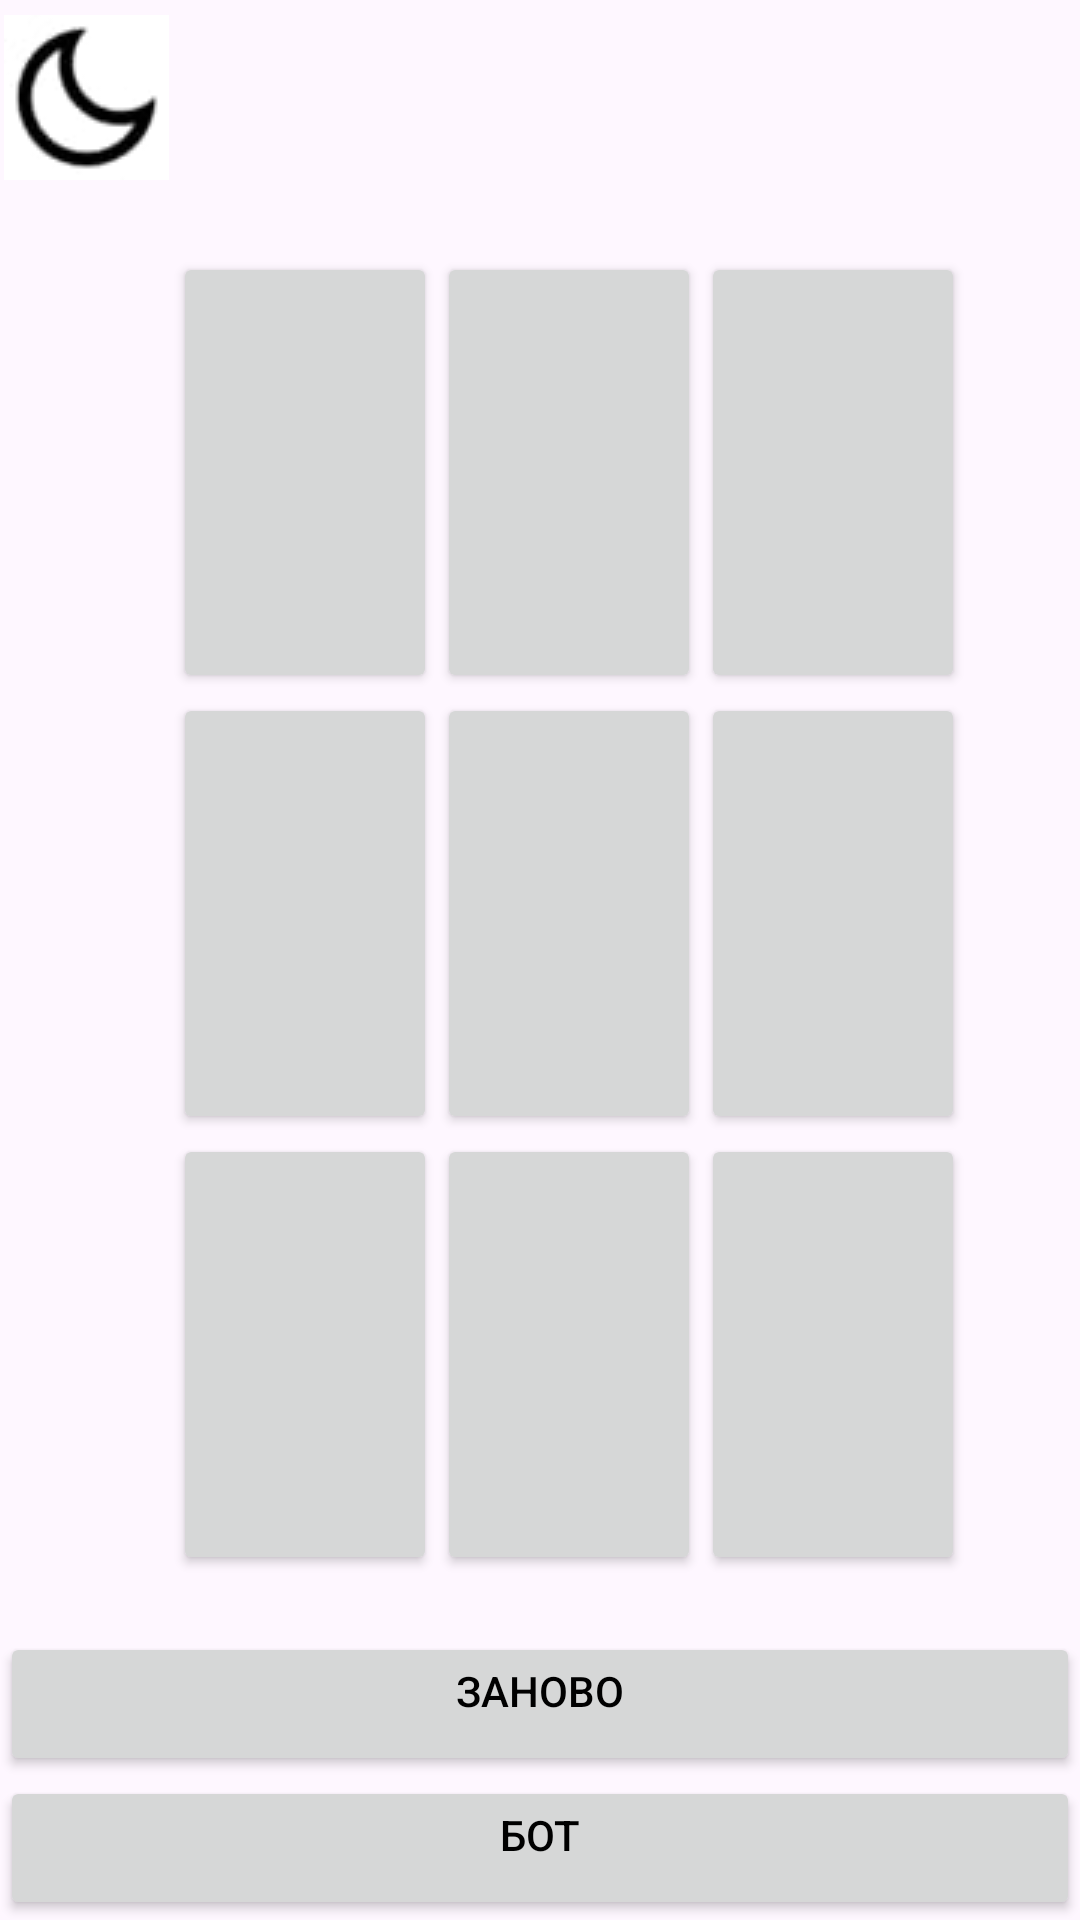

Named icons in this screenshot (1080px×1920px) and their bounding boxes, (x1, y1, x2, y2):
moon: (15, 26, 158, 169)
